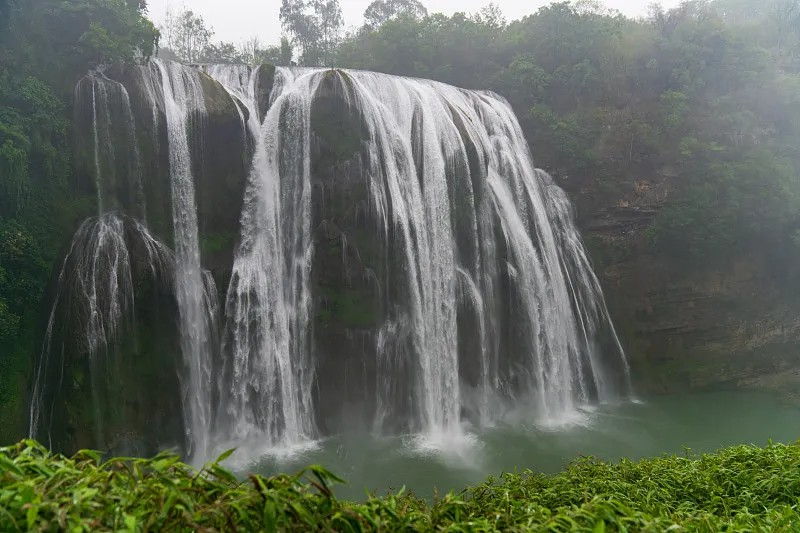Huangguoshu: (76, 58, 632, 458)
